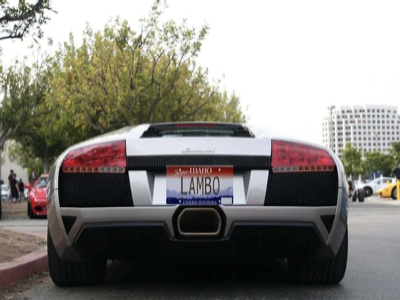licence: (166, 166, 233, 206)
